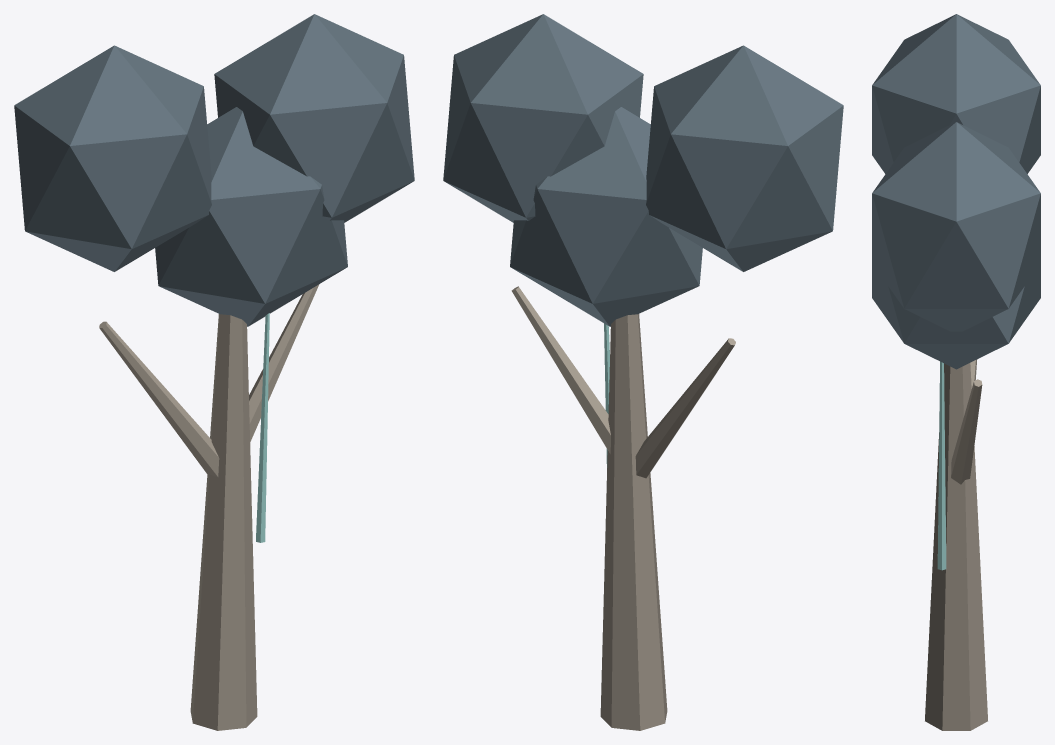
Rendered from SM_ENV_Tree_03_Distorted.glb.
3 views of the same model, side by side, from view 1: azimuth 30°, elevation 25°; view 2: azimuth 150°, elevation 25°; view 3: azimuth 270°, elevation 25° (orthographic). The views are drawn at different scales.
Visible parts, largest first — view 1: SM_ENV_Tree_03_Distorted; view 2: SM_ENV_Tree_03_Distorted; view 3: SM_ENV_Tree_03_Distorted.
Part boxes in pixels (x1=…): SM_ENV_Tree_03_Distorted: x1=14, y1=14, x2=414, y2=730; SM_ENV_Tree_03_Distorted: x1=443, y1=14, x2=843, y2=730; SM_ENV_Tree_03_Distorted: x1=872, y1=14, x2=1040, y2=730.
Bounding box in the file's own units: 2.27 × 4 × 0.9357.
